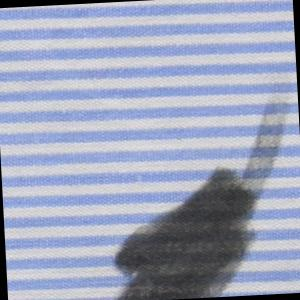Stain: (100, 99, 297, 300)
